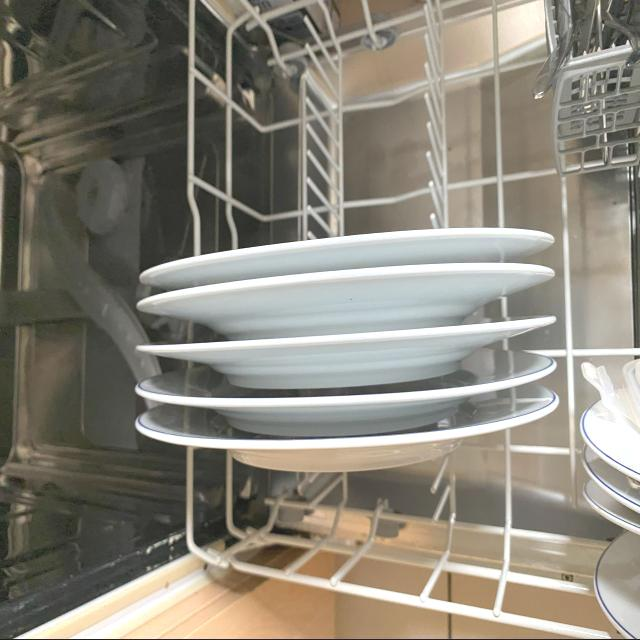empty_slot: (228, 0, 495, 236), (243, 478, 550, 541)
